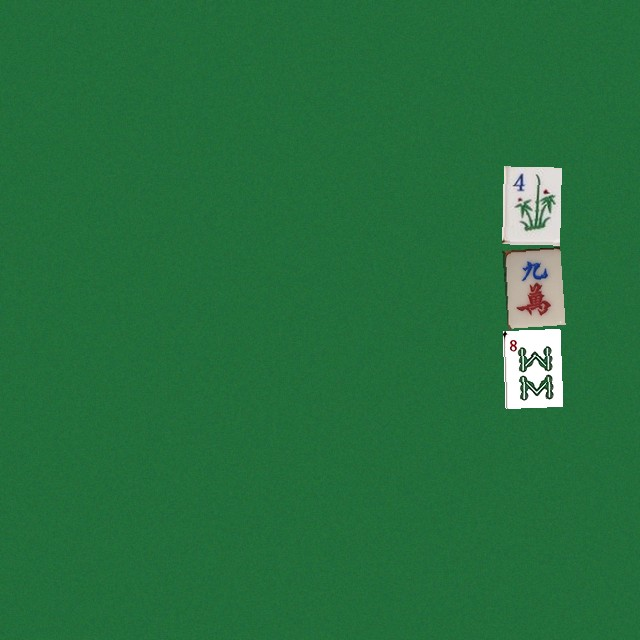tile: (502, 166, 560, 244), (502, 247, 560, 325), (502, 328, 560, 406)
